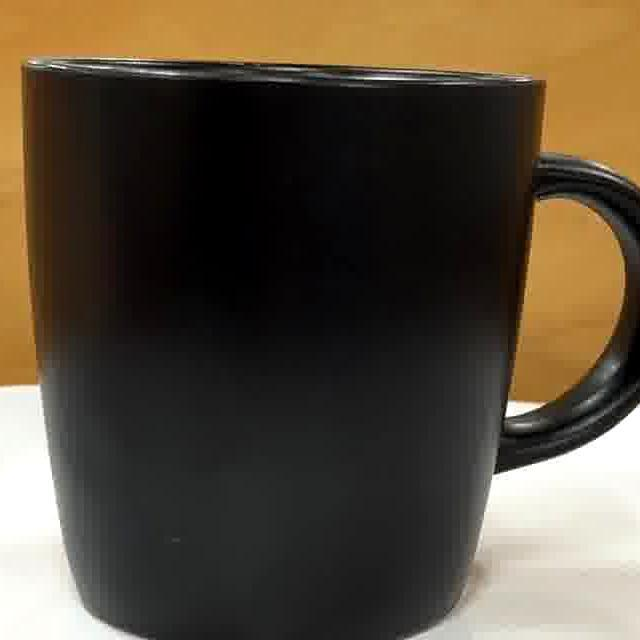cup: (29, 62, 640, 640)
